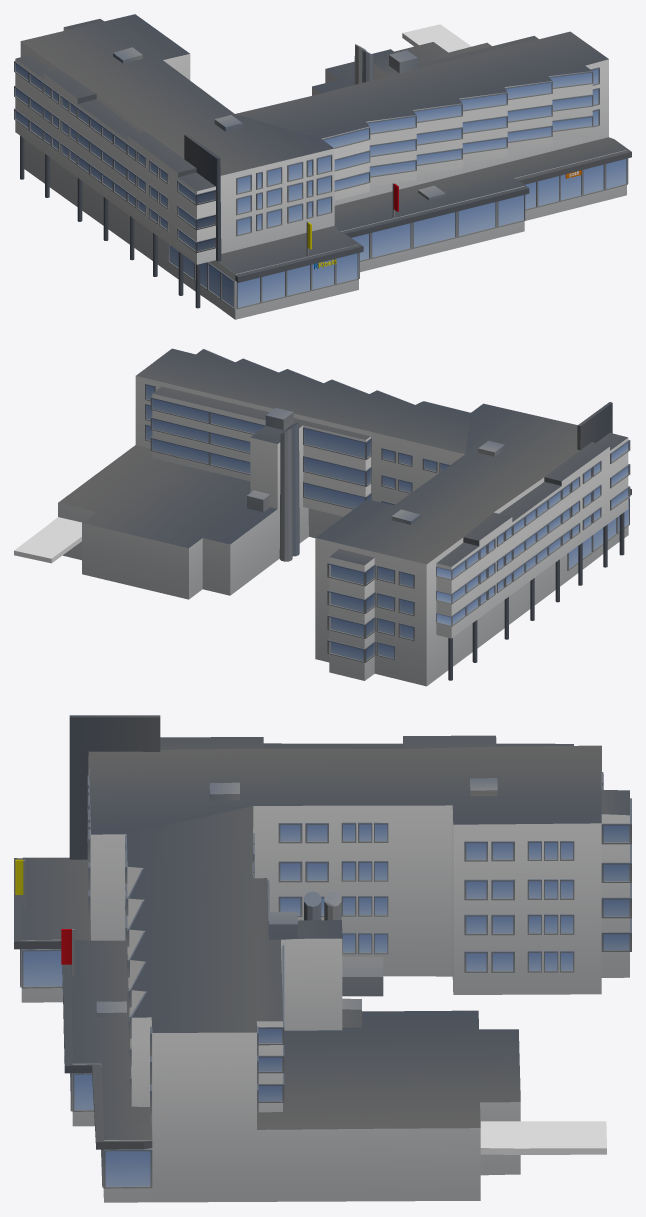
Rendered from r_kioski.fbx.
3 renders of one model, top to bottom at view 1: azimuth 30°, elevation 25°; view 2: azimuth 150°, elevation 25°; view 3: azimuth 270°, elevation 25°, orthographic. The views are drawn at different scales.
Visible parts, largest first — view 1: r_kioski; view 2: r_kioski; view 3: r_kioski.
Boxes of the visible parts, bbox=[...] form: r_kioski: bbox=[14, 14, 631, 319]; r_kioski: bbox=[14, 348, 631, 686]; r_kioski: bbox=[14, 715, 631, 1202].
Bounding box in the file's own units: 155 × 49.67 × 136.
